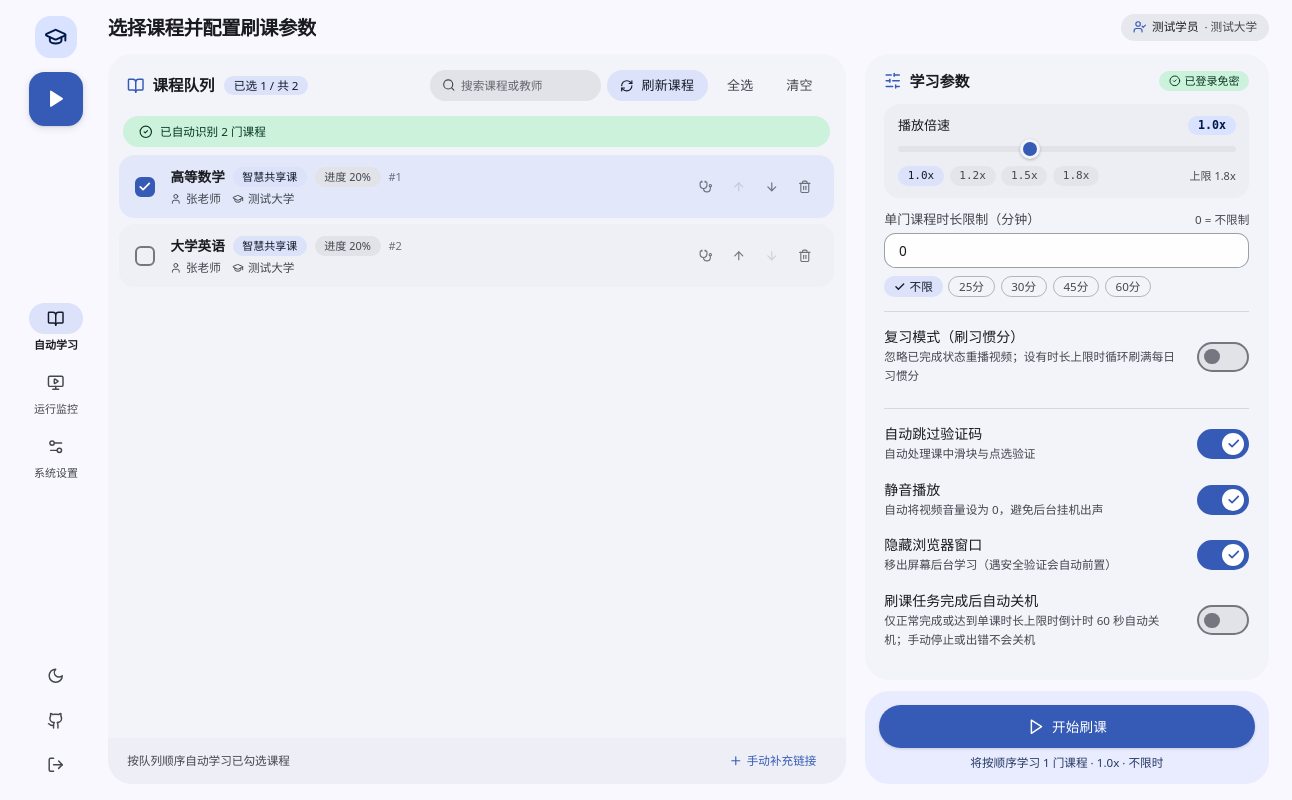
Test: App auto-save configuration › does not loop on save failure and allows retry
The image size is (1292, 800).
Expected: the heading "课程队列" is shown, [127, 74, 214, 97]
Click the button "1.5x". click: coordinates (1024, 176)
box: [1001, 166, 1047, 186]
Wait 1260 ms
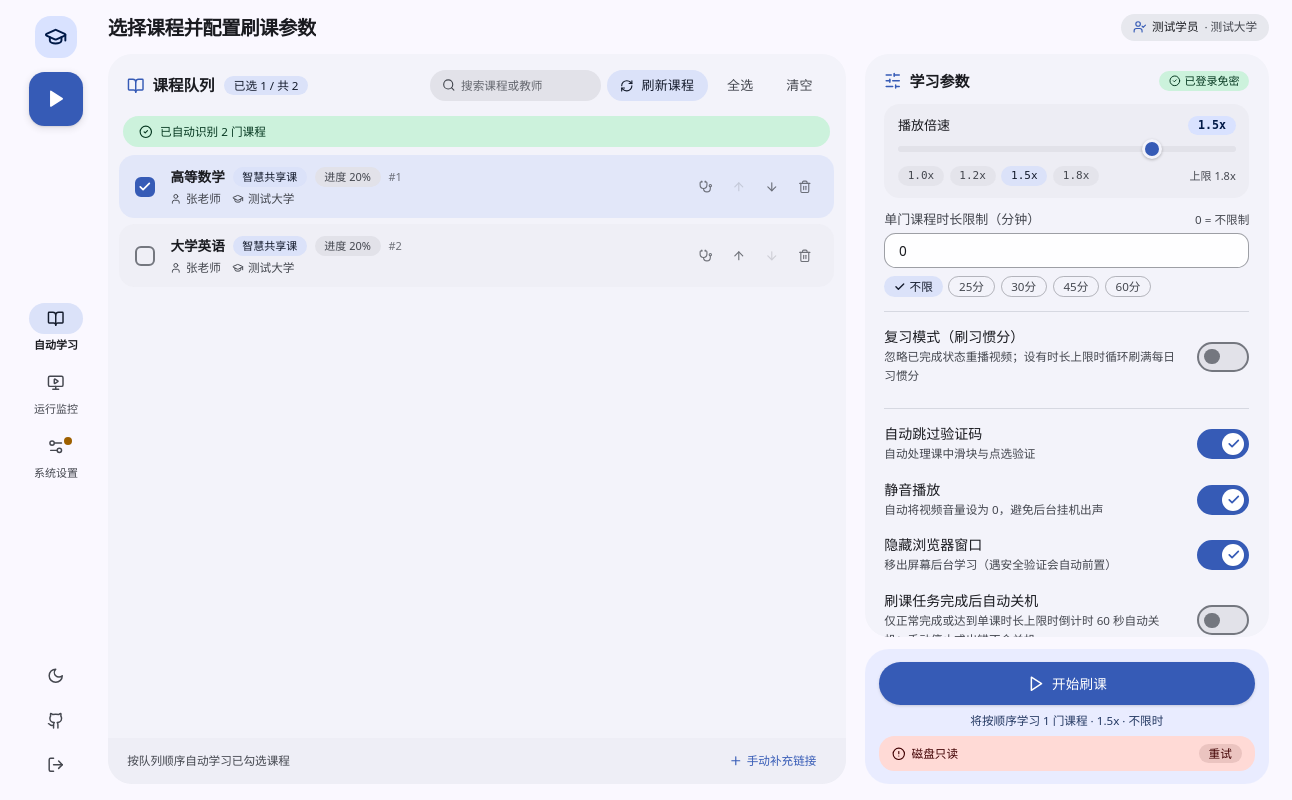
Expected: the text "磁盘只读" is shown, [912, 746, 958, 761]
Note: Clicking retry succeeds.
Click the button "重试". click: coordinates (1220, 754)
box: [1199, 744, 1242, 763]
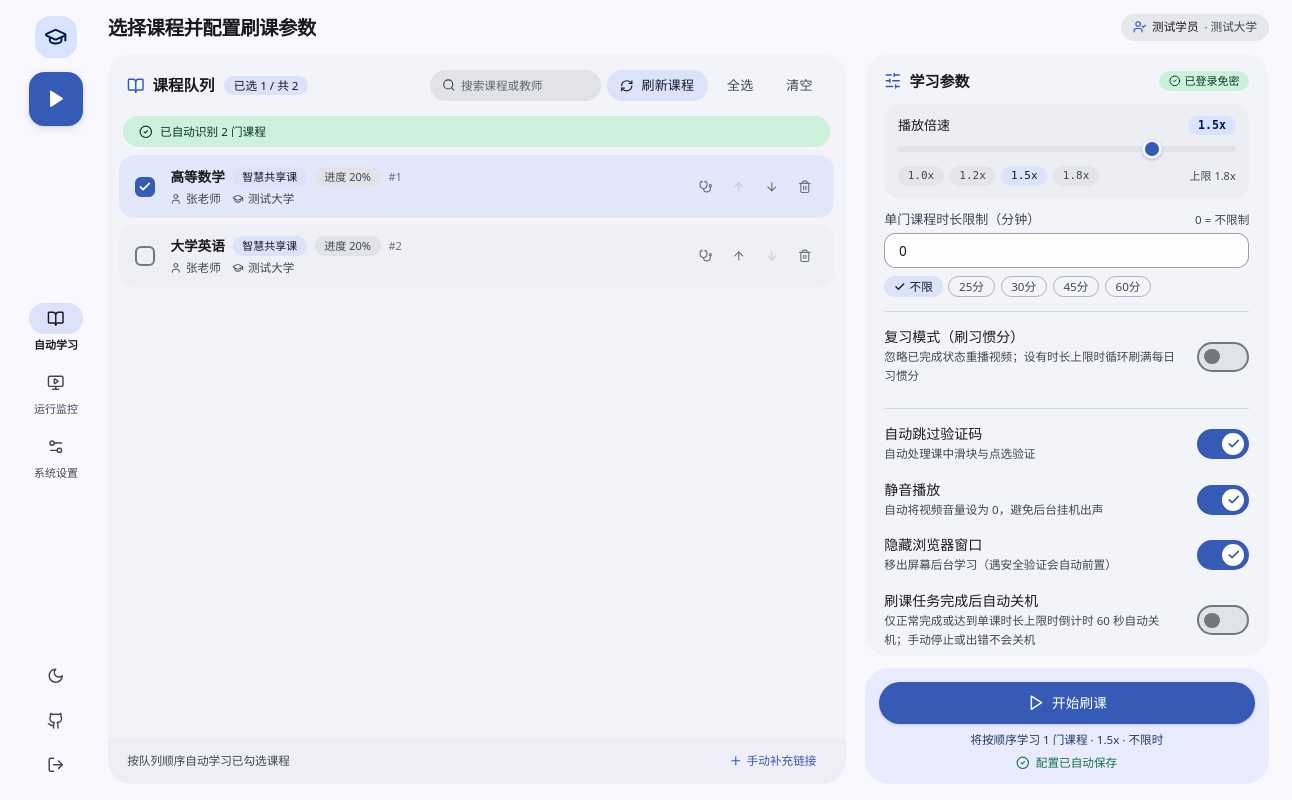
Expected: the text "配置已自动保存" is shown, [1016, 755, 1117, 770]
